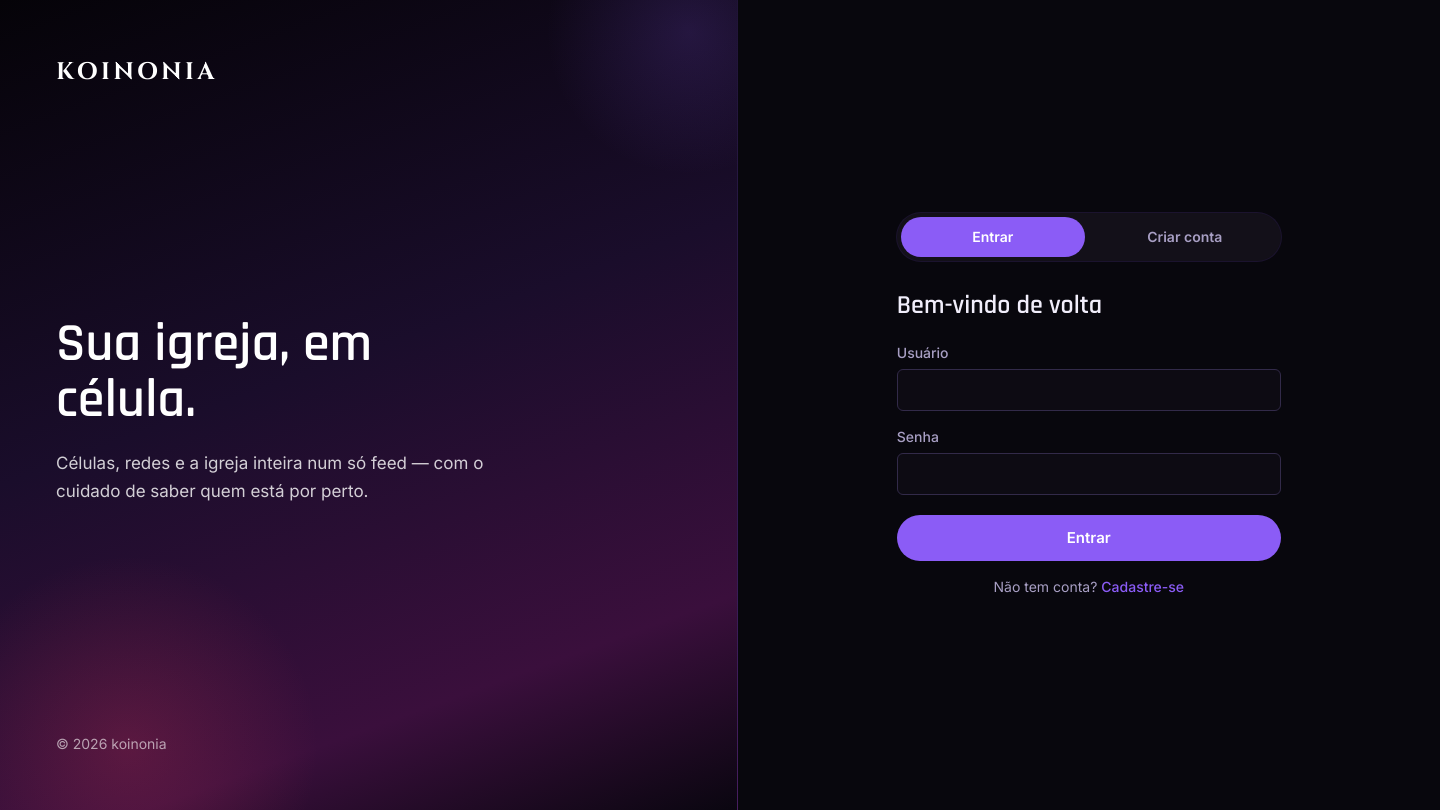
Test case: fluxo de integração: login → feed › faz login e chega no feed global com o post mockado
The image size is (1440, 810).
Check: the heading "Bem-vindo de volta" is shown, box [897, 289, 1102, 322]
In the field labelled "Usuário": [1089, 390] box [897, 369, 1281, 411], type "wills"
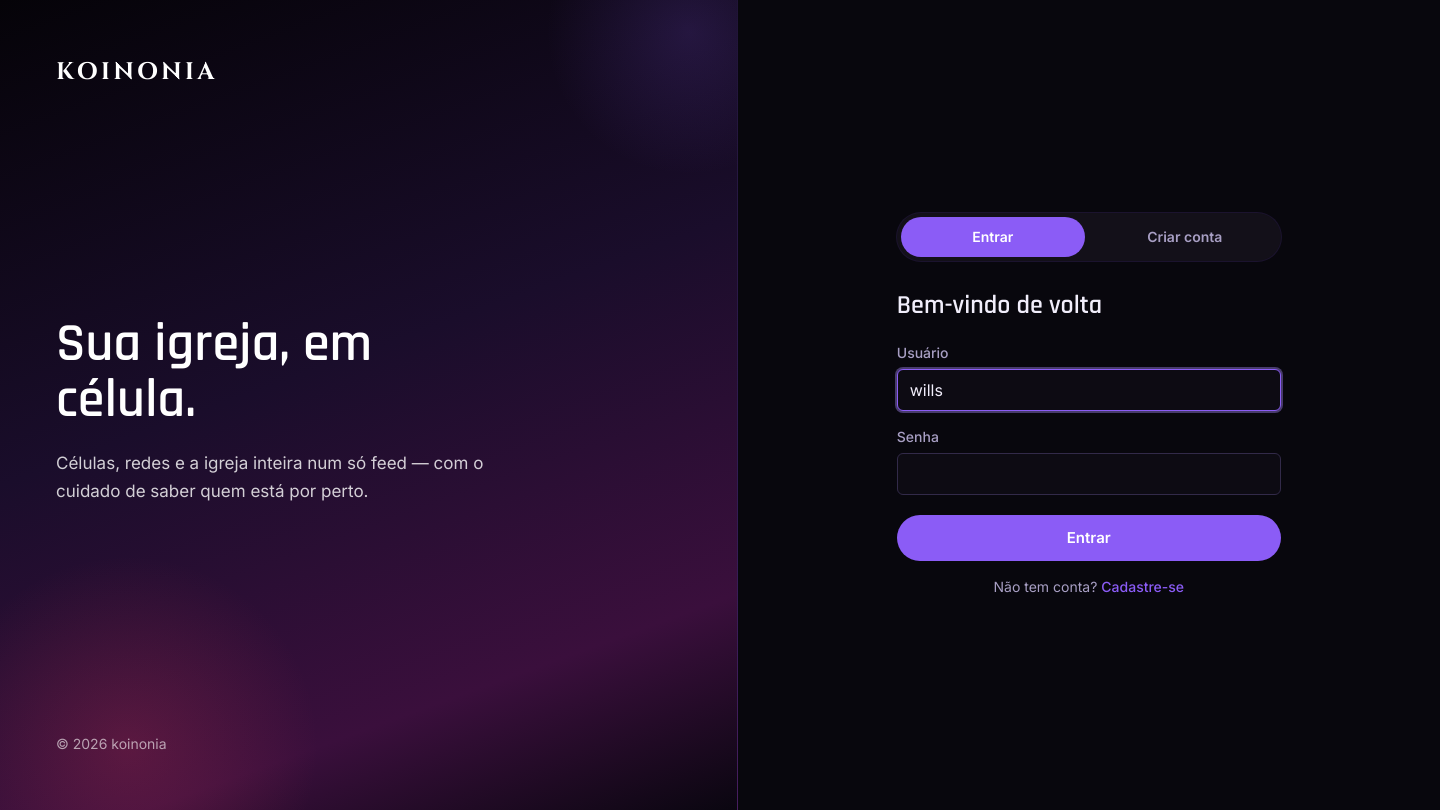
In the password field labelled "Senha": [1089, 474] box [897, 453, 1281, 495], type "senha-forte-123"
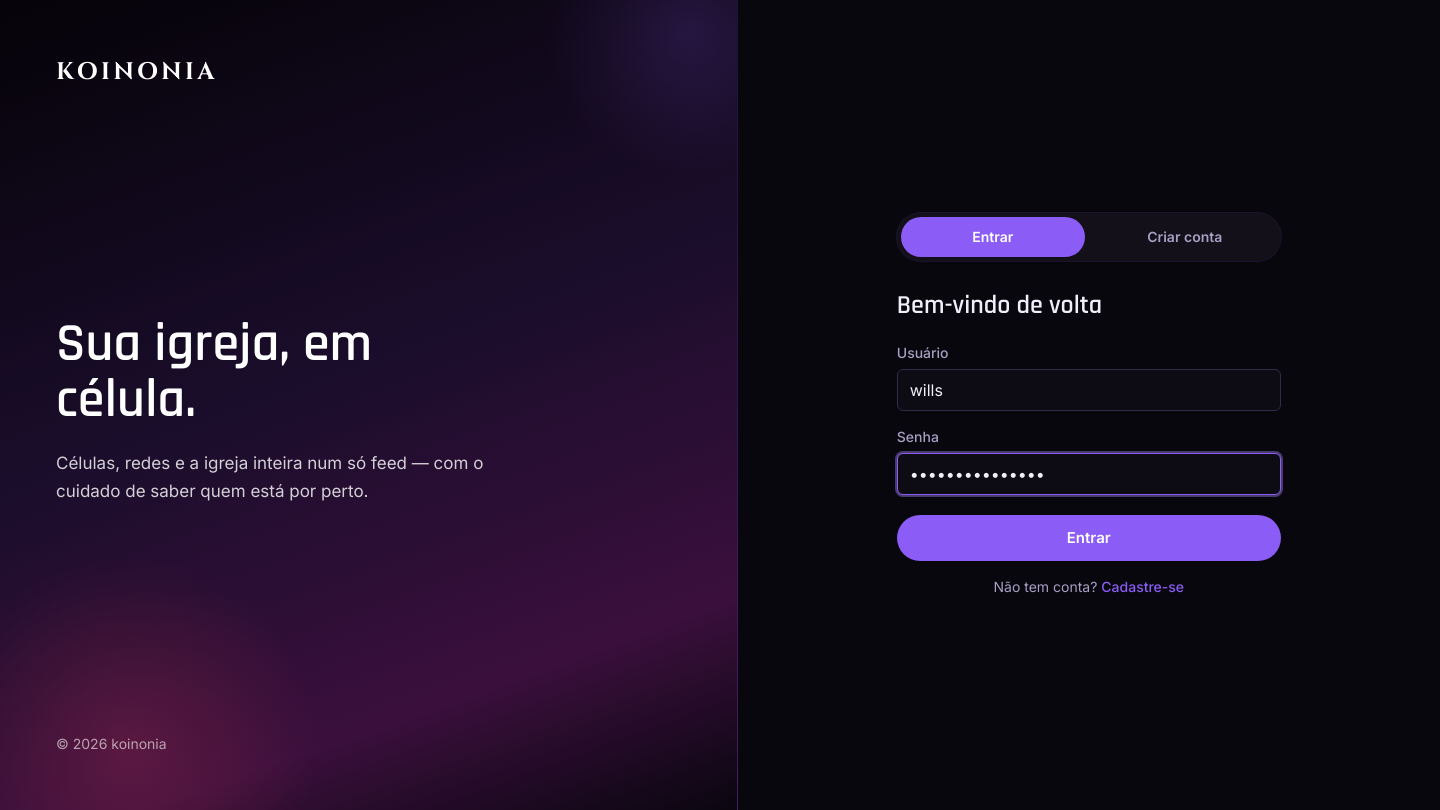
Click the button "Entrar": [1089, 538] box [897, 515, 1281, 561]
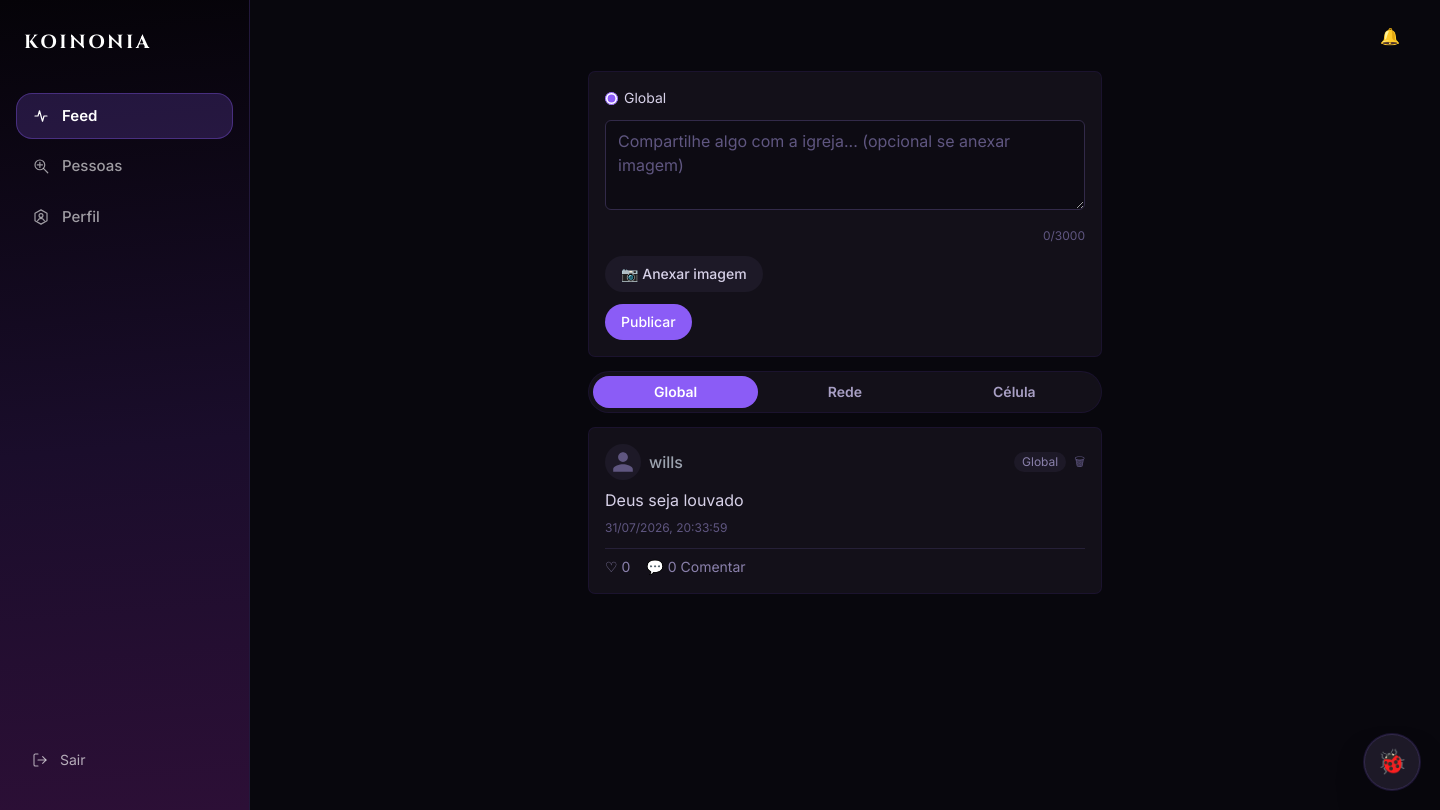
Check: the text "Deus seja louvado" is shown, box [605, 490, 744, 510]
